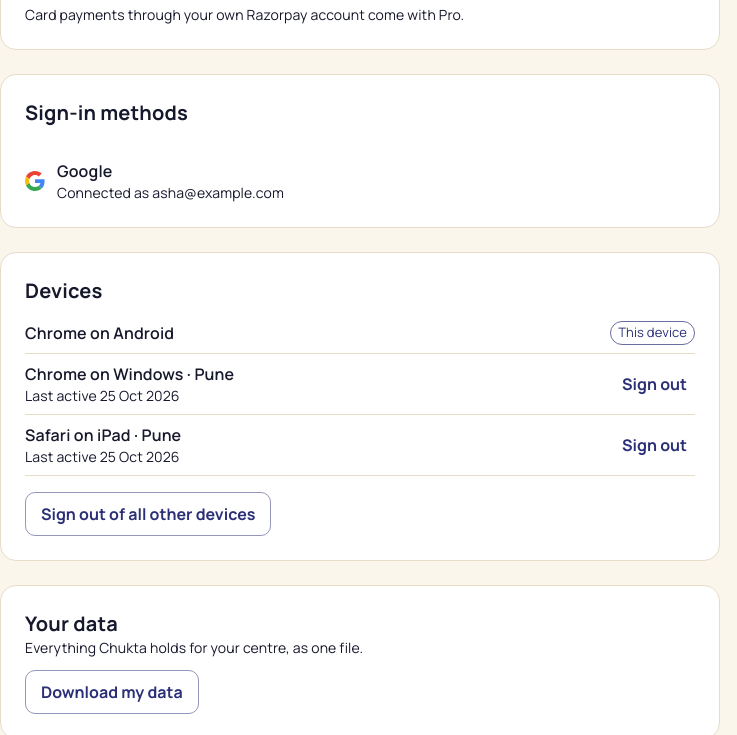
it: Settings › explains when a device can't be signed out
(page scrolled)
Click the button with aria-label "Sign out Chrome on Windows" at (655, 384), box [614, 362, 695, 406]
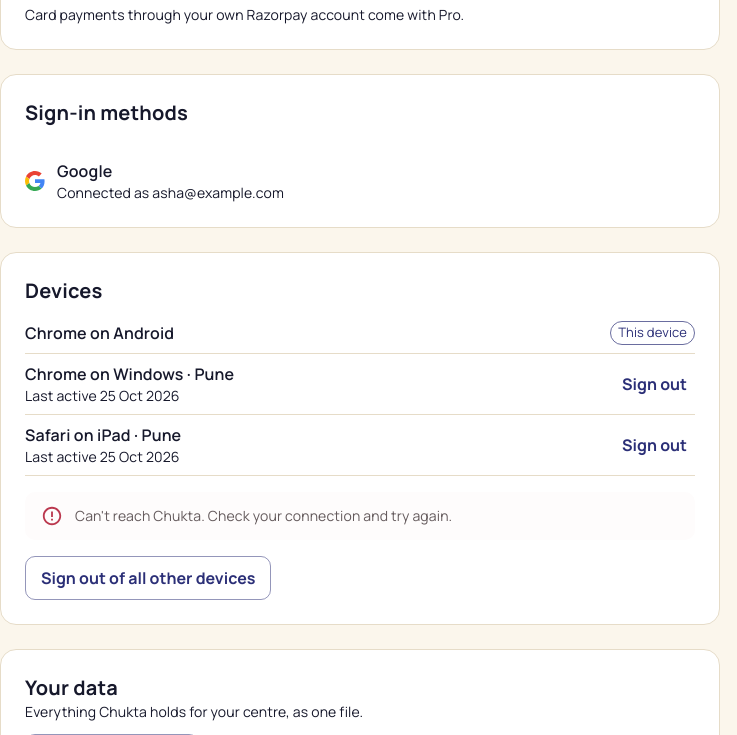
Expected: the element "Devices" shows "Chrome on Windows", [25, 363, 234, 385]
Now the message shows "Can't reach Chukta.", box [75, 506, 452, 525]
